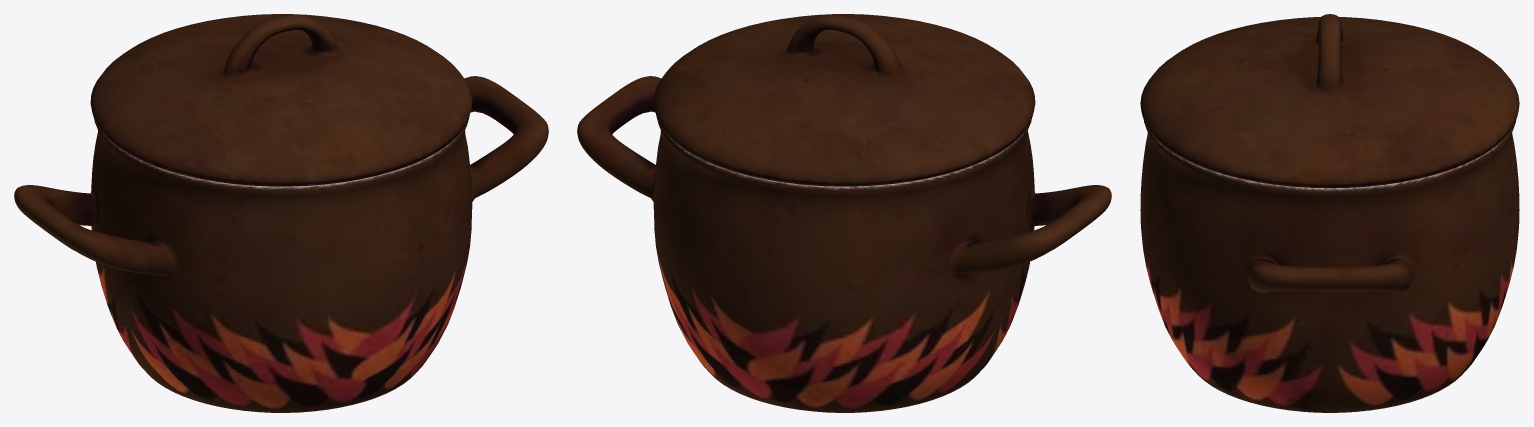
The model's file is pot_enamel_01.glb.
The picture shows the model from 3 angles, left to right: view 1: azimuth 30°, elevation 25°; view 2: azimuth 150°, elevation 25°; view 3: azimuth 270°, elevation 25°; orthographic projection.
Visible parts, largest first — view 1: pot_enamel_01_lid; view 2: pot_enamel_01_lid; view 3: pot_enamel_01_lid.
Part boxes in pixels (x1,y1,x2,y2): pot_enamel_01_lid: (14,14,548,412); pot_enamel_01_lid: (577,14,1111,412); pot_enamel_01_lid: (1140,14,1519,412).
Size of the model in its own units: 0.2629 by 0.1783 by 0.1805.
Materials: 1 (1 with a texture image).
